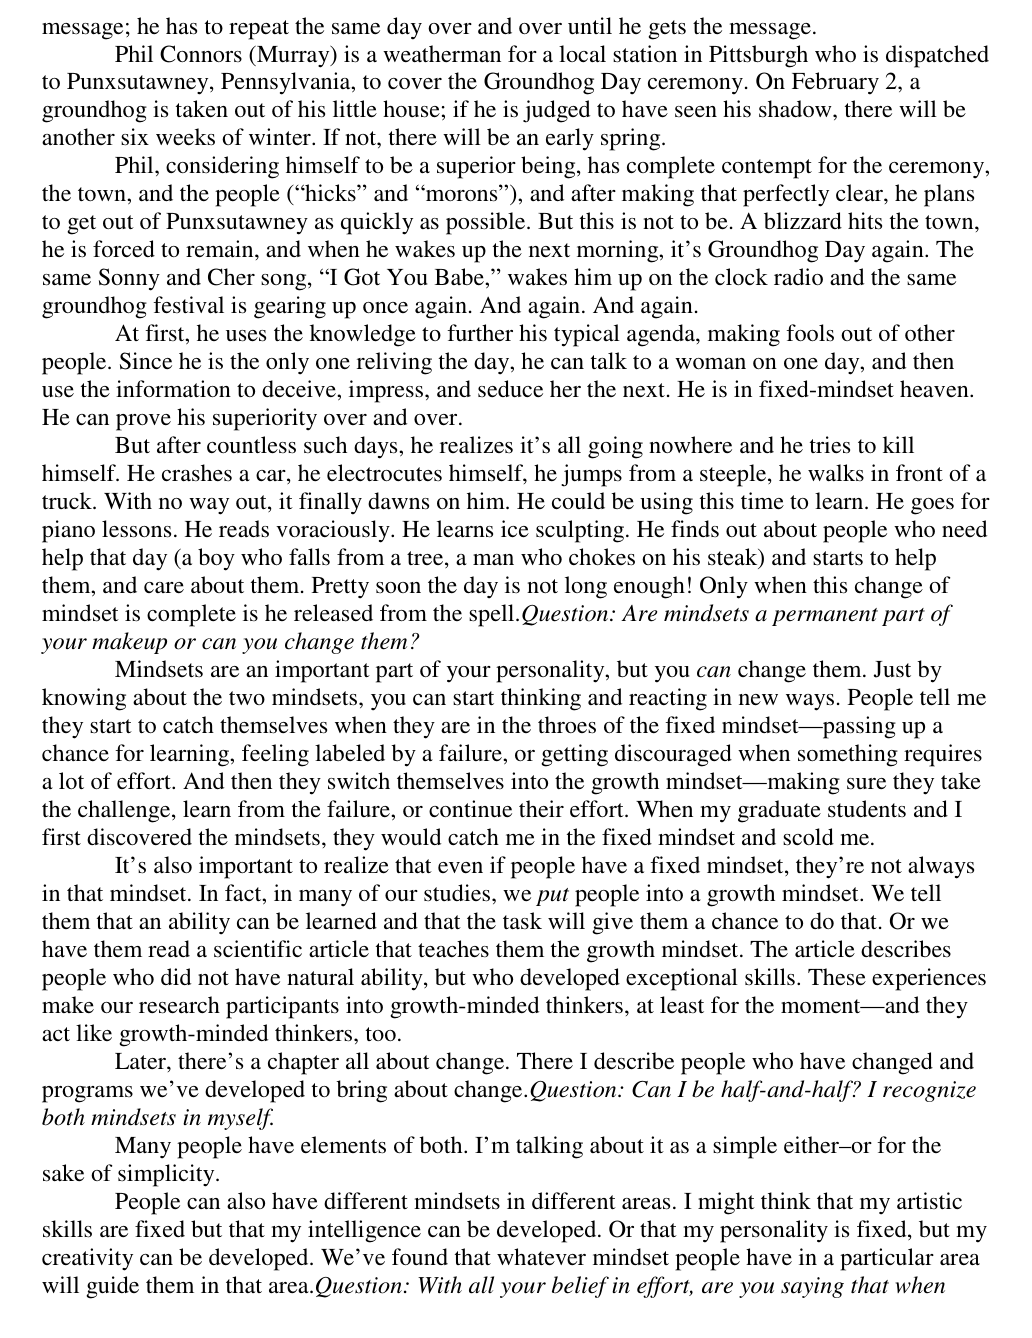latin: (35, 1044, 998, 1300), (30, 435, 990, 653), (36, 653, 999, 855), (33, 855, 991, 1044), (28, 150, 986, 321), (38, 15, 995, 150), (38, 323, 996, 434)
